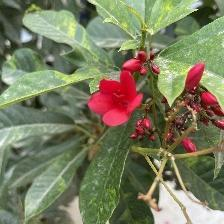jatropha: (88, 70, 146, 128)
